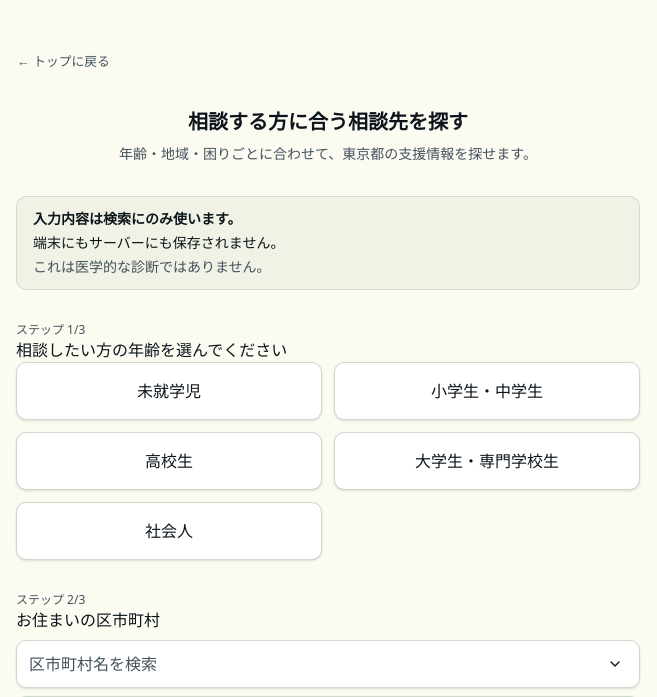
SupportInputForm › 未入力の項目に応じて無効CTAの理由を表示する(TICKET-0037 AC-7)
Step 1. Click the button "社会人" → click(169, 531), box [16,502,322,560]
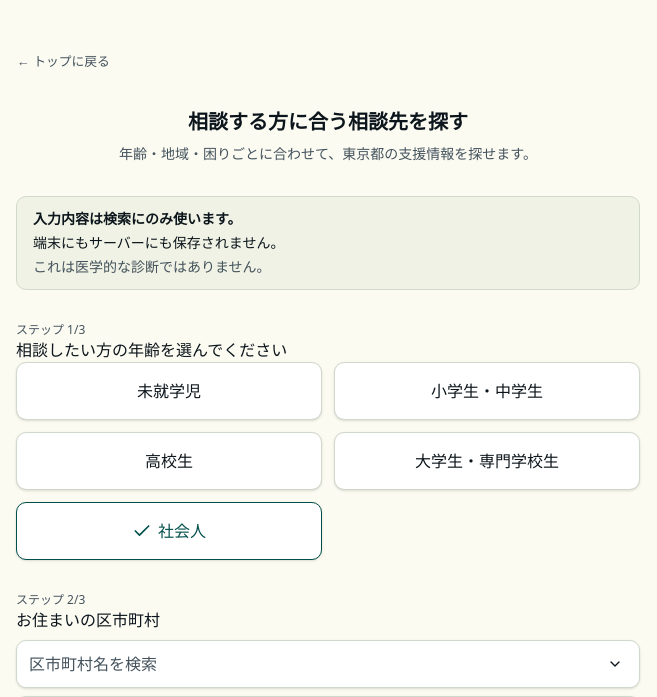
Step 2. Type "新宿区" into the dropdown labelled "ステップ 2/3 お住まいの区市町村" → (328, 664), box [17,641,639,687]
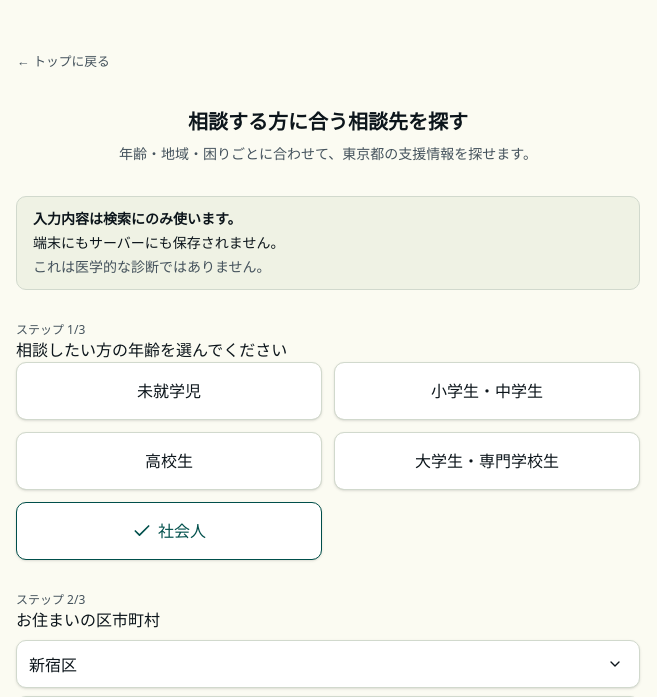
Step 3. Press ArrowDown in the dropdown labelled "ステップ 2/3 お住まいの区市町村", box [17,641,639,687]
Step 4. Press Enter in the dropdown labelled "ステップ 2/3 お住まいの区市町村", box [17,641,639,687]
(page scrolled)
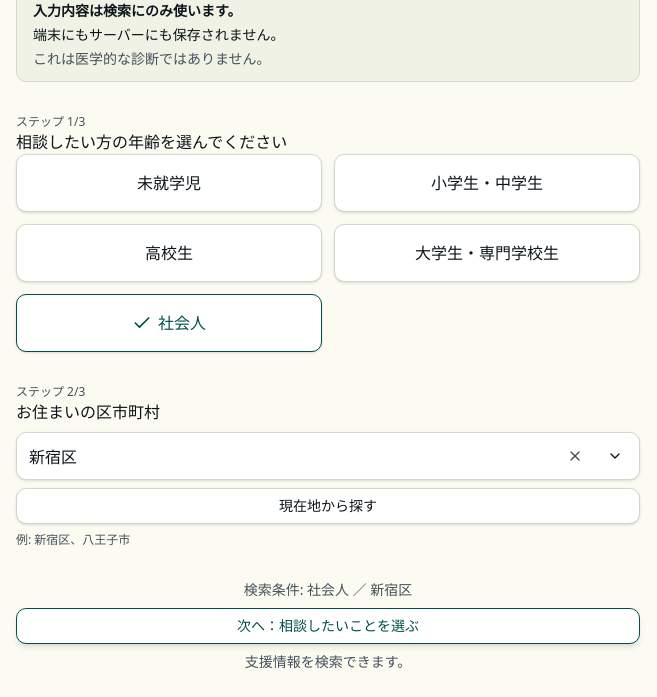
Expected: the text "支援情報を検索できます。" is shown, [245,652,411,671]
